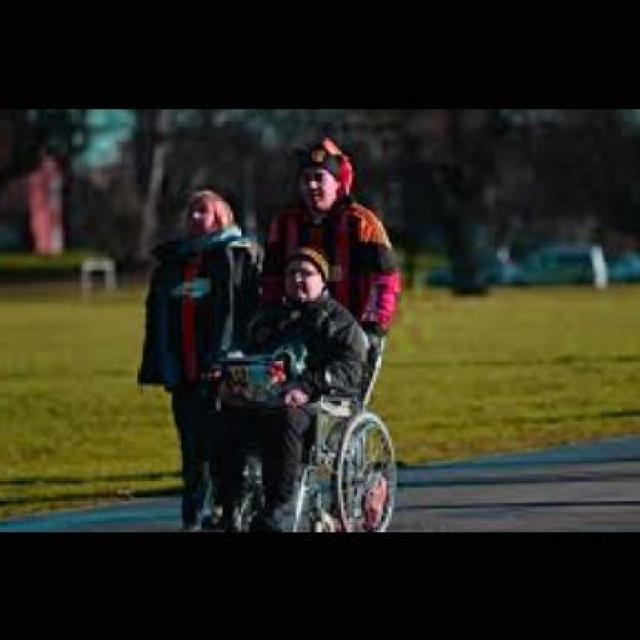wheelchairs: (284, 390, 417, 536)
